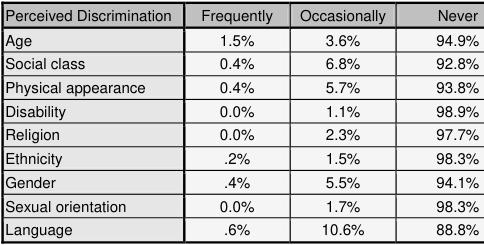table: (4, 3, 478, 238)
table column: (4, 3, 185, 238), (285, 3, 410, 238), (185, 3, 285, 238), (410, 3, 478, 238)
table column header: (4, 3, 478, 26)
table row: (4, 26, 478, 50), (4, 50, 478, 74), (4, 74, 478, 98), (4, 121, 478, 145), (4, 145, 478, 169), (4, 192, 478, 216), (4, 3, 478, 26), (4, 98, 478, 121), (4, 169, 478, 192), (4, 216, 478, 238)
